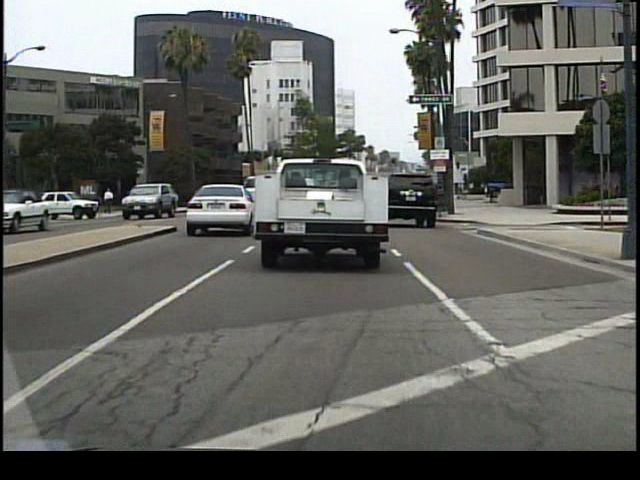person: (132, 182, 149, 212), (104, 184, 115, 217), (97, 189, 101, 214)
